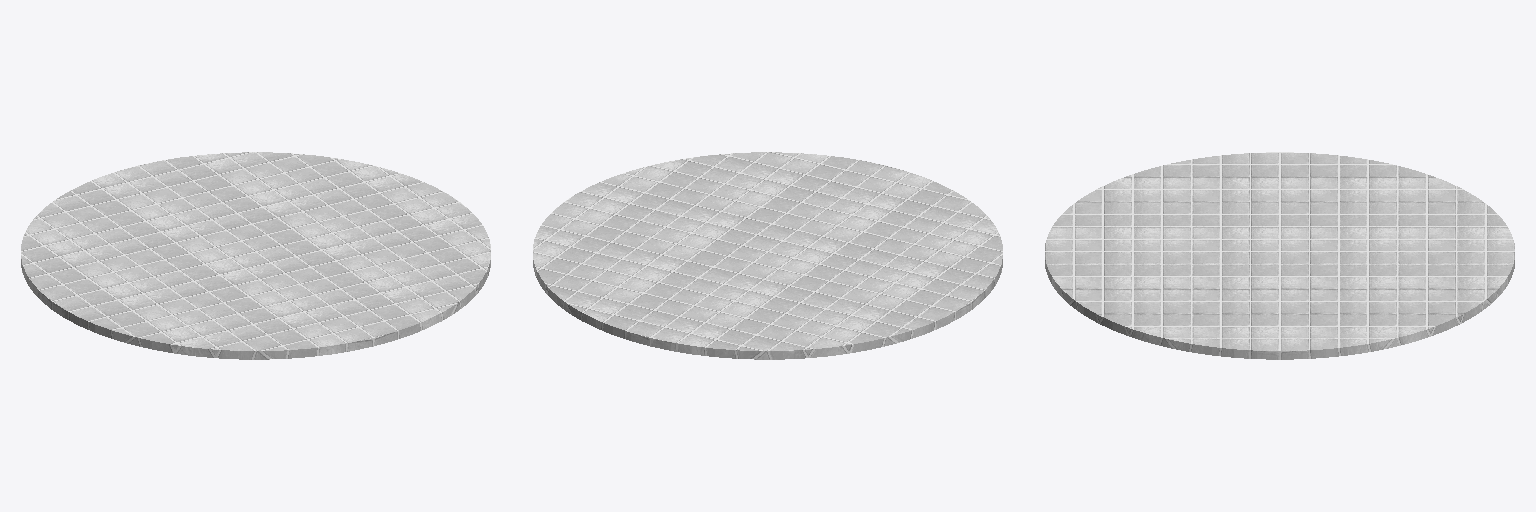
The picture shows the model from 3 angles: view 1: azimuth 30°, elevation 25°; view 2: azimuth 150°, elevation 25°; view 3: azimuth 270°, elevation 25°; orthographic projection.
Visible parts, largest first — view 1: Circle; view 2: Circle; view 3: Circle.
Boxes of the visible parts, x1,y1,x2,y2 form: Circle: [21, 152, 490, 359]; Circle: [533, 152, 1002, 359]; Circle: [1045, 152, 1514, 359].
Bounding box in the file's own units: 50 × 1 × 50.
1 materials, 1 textured.